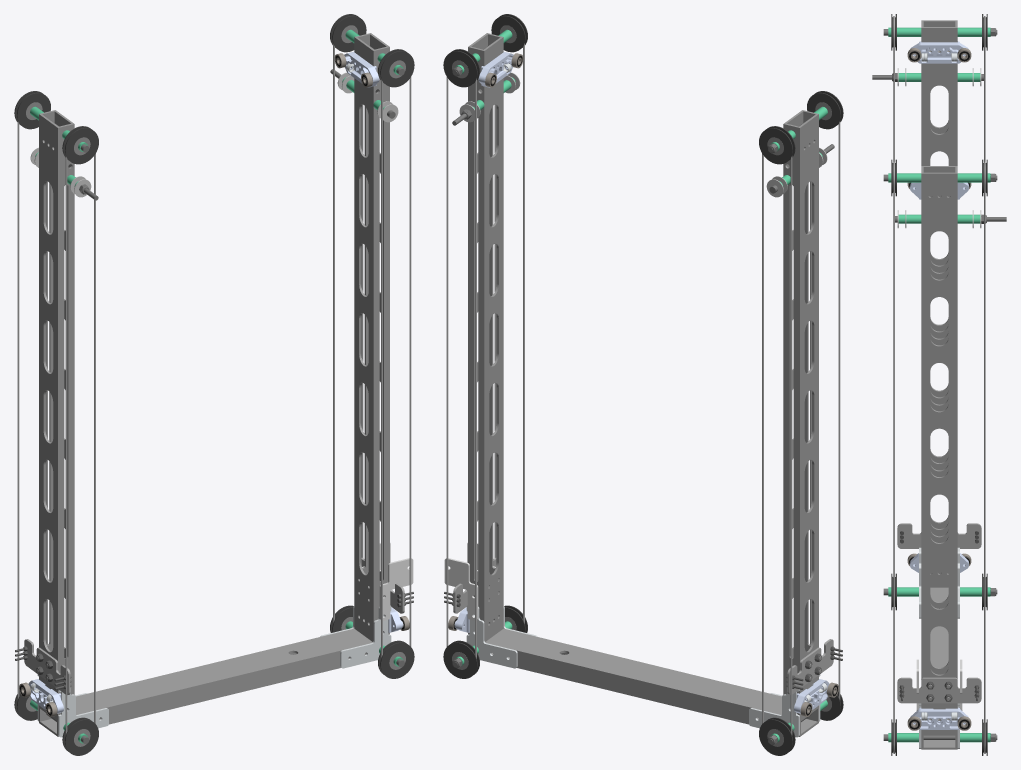
3 views of the same model, side by side, from view 1: azimuth 30°, elevation 25°; view 2: azimuth 150°, elevation 25°; view 3: azimuth 270°, elevation 25° (orthographic). The views are drawn at different scales.
Visible parts, largest first — view 1: Elevator Height Rail (×2), 73.4 in Cable (×4), Elevator Width Rail, Elevator Pulley (×6), am-3860 90 Gusset REV2 (×2), Base Slot Bracket, Chain Tie-Off Plate; view 2: Elevator Height Rail (×2), 73.4 in Cable (×4), Elevator Width Rail, Elevator Pulley (×6), am-3860 90 Gusset REV2 (×2), Base Slot Bracket, Chain Tie-Off Plate; view 3: Elevator Height Rail (×2), 73.4 in Cable (×4), Chain Tie-Off Plate (×2), WCP-0897-001 Rev1 (×4), Elevator Width Rail.
Boxes of the visible parts, left/top/right/bottom form: Elevator Height Rail (×2): left=39, top=33, right=389, bottom=719; 73.4 in Cable (×4): left=17, top=43, right=411, bottom=734; Elevator Width Rail: left=39, top=628, right=372, bottom=736; Elevator Pulley (×6): left=14, top=14, right=414, bottom=755; am-3860 90 Gusset REV2 (×2): left=58, top=605, right=391, bottom=737; Base Slot Bracket: left=379, top=558, right=413, bottom=620; Chain Tie-Off Plate: left=24, top=639, right=70, bottom=694; Elevator Height Rail (×2): left=468, top=33, right=818, bottom=719; 73.4 in Cable (×4): left=446, top=43, right=840, bottom=734; Elevator Width Rail: left=485, top=628, right=818, bottom=736; Elevator Pulley (×6): left=443, top=14, right=843, bottom=755; am-3860 90 Gusset REV2 (×2): left=466, top=605, right=799, bottom=737; Base Slot Bracket: left=444, top=558, right=478, bottom=620; Chain Tie-Off Plate: left=787, top=639, right=833, bottom=694; Elevator Height Rail (×2): left=921, top=20, right=957, bottom=733; 73.4 in Cable (×4): left=893, top=16, right=985, bottom=753; Chain Tie-Off Plate (×2): left=897, top=523, right=981, bottom=703; WCP-0897-001 Rev1 (×4): left=910, top=41, right=968, bottom=729; Elevator Width Rail: left=921, top=587, right=957, bottom=749.
Size of the model in its own units: 0.5591 by 0.915 by 0.188.
